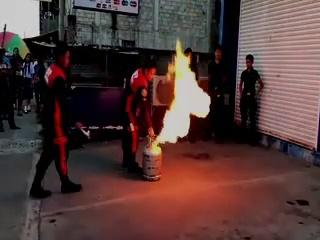Fire: (149, 37, 211, 147)
